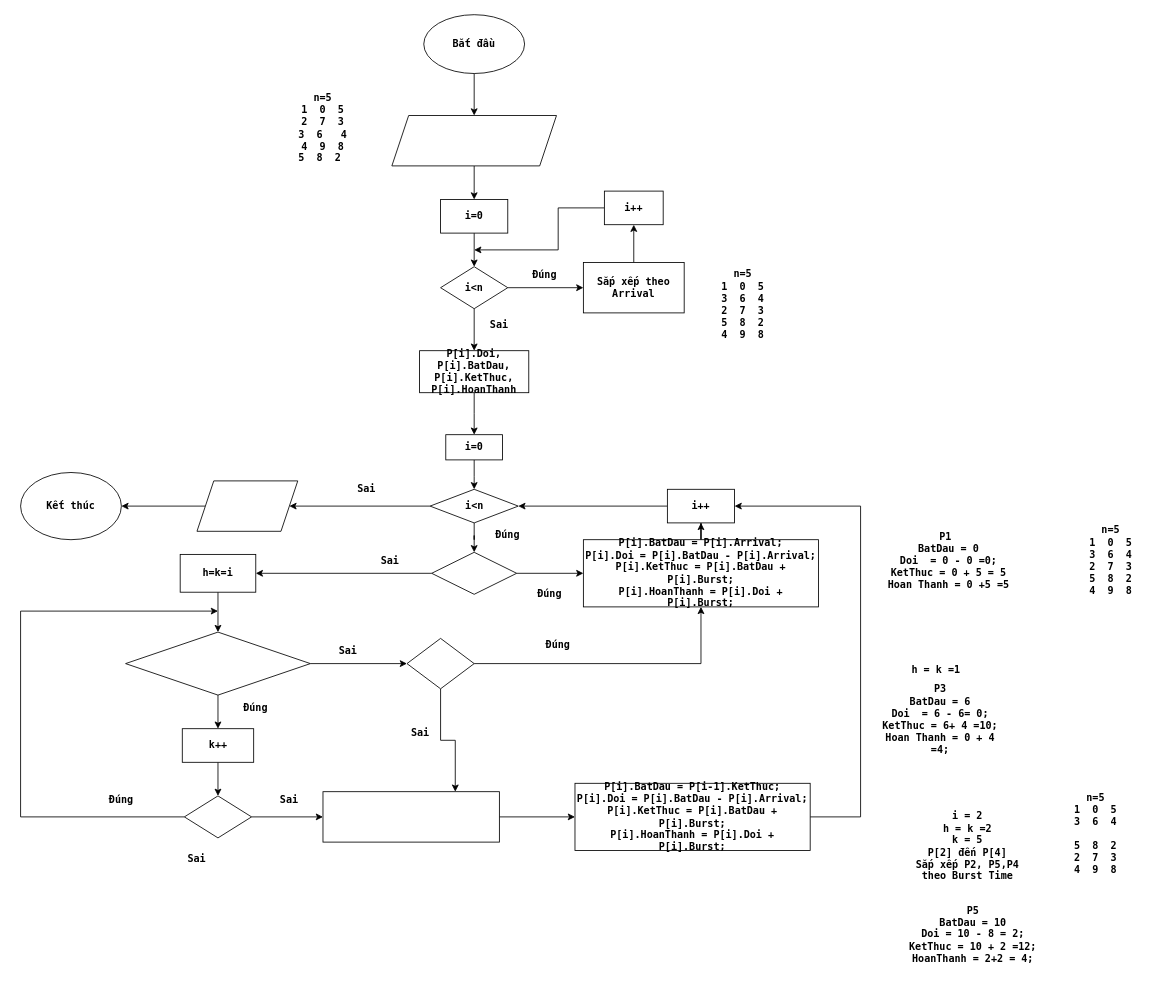
The diagram is 1175 pixels wide and 995 high, and some of its shapes have lost their labels. The shapes that lost their labels are listed below. From the top down, each one's centre as x and y in pixels, then its label:
At (x=473, y=140): "INPUT Số tiến trình:n P[i].ID, P[i].Arrival, P[i].Burst".
At (x=247, y=505): "OUTPUT".
At (x=474, y=572): "i==0".
At (x=217, y=663): "P[k].Arrival <=P[i-1].KetThuc".
At (x=440, y=663): "i==k".
At (x=218, y=816): "k<n".
At (x=410, y=816): "Sắp xếp tiến trình từ P[h] đến P[k-1] theo BustTime".
